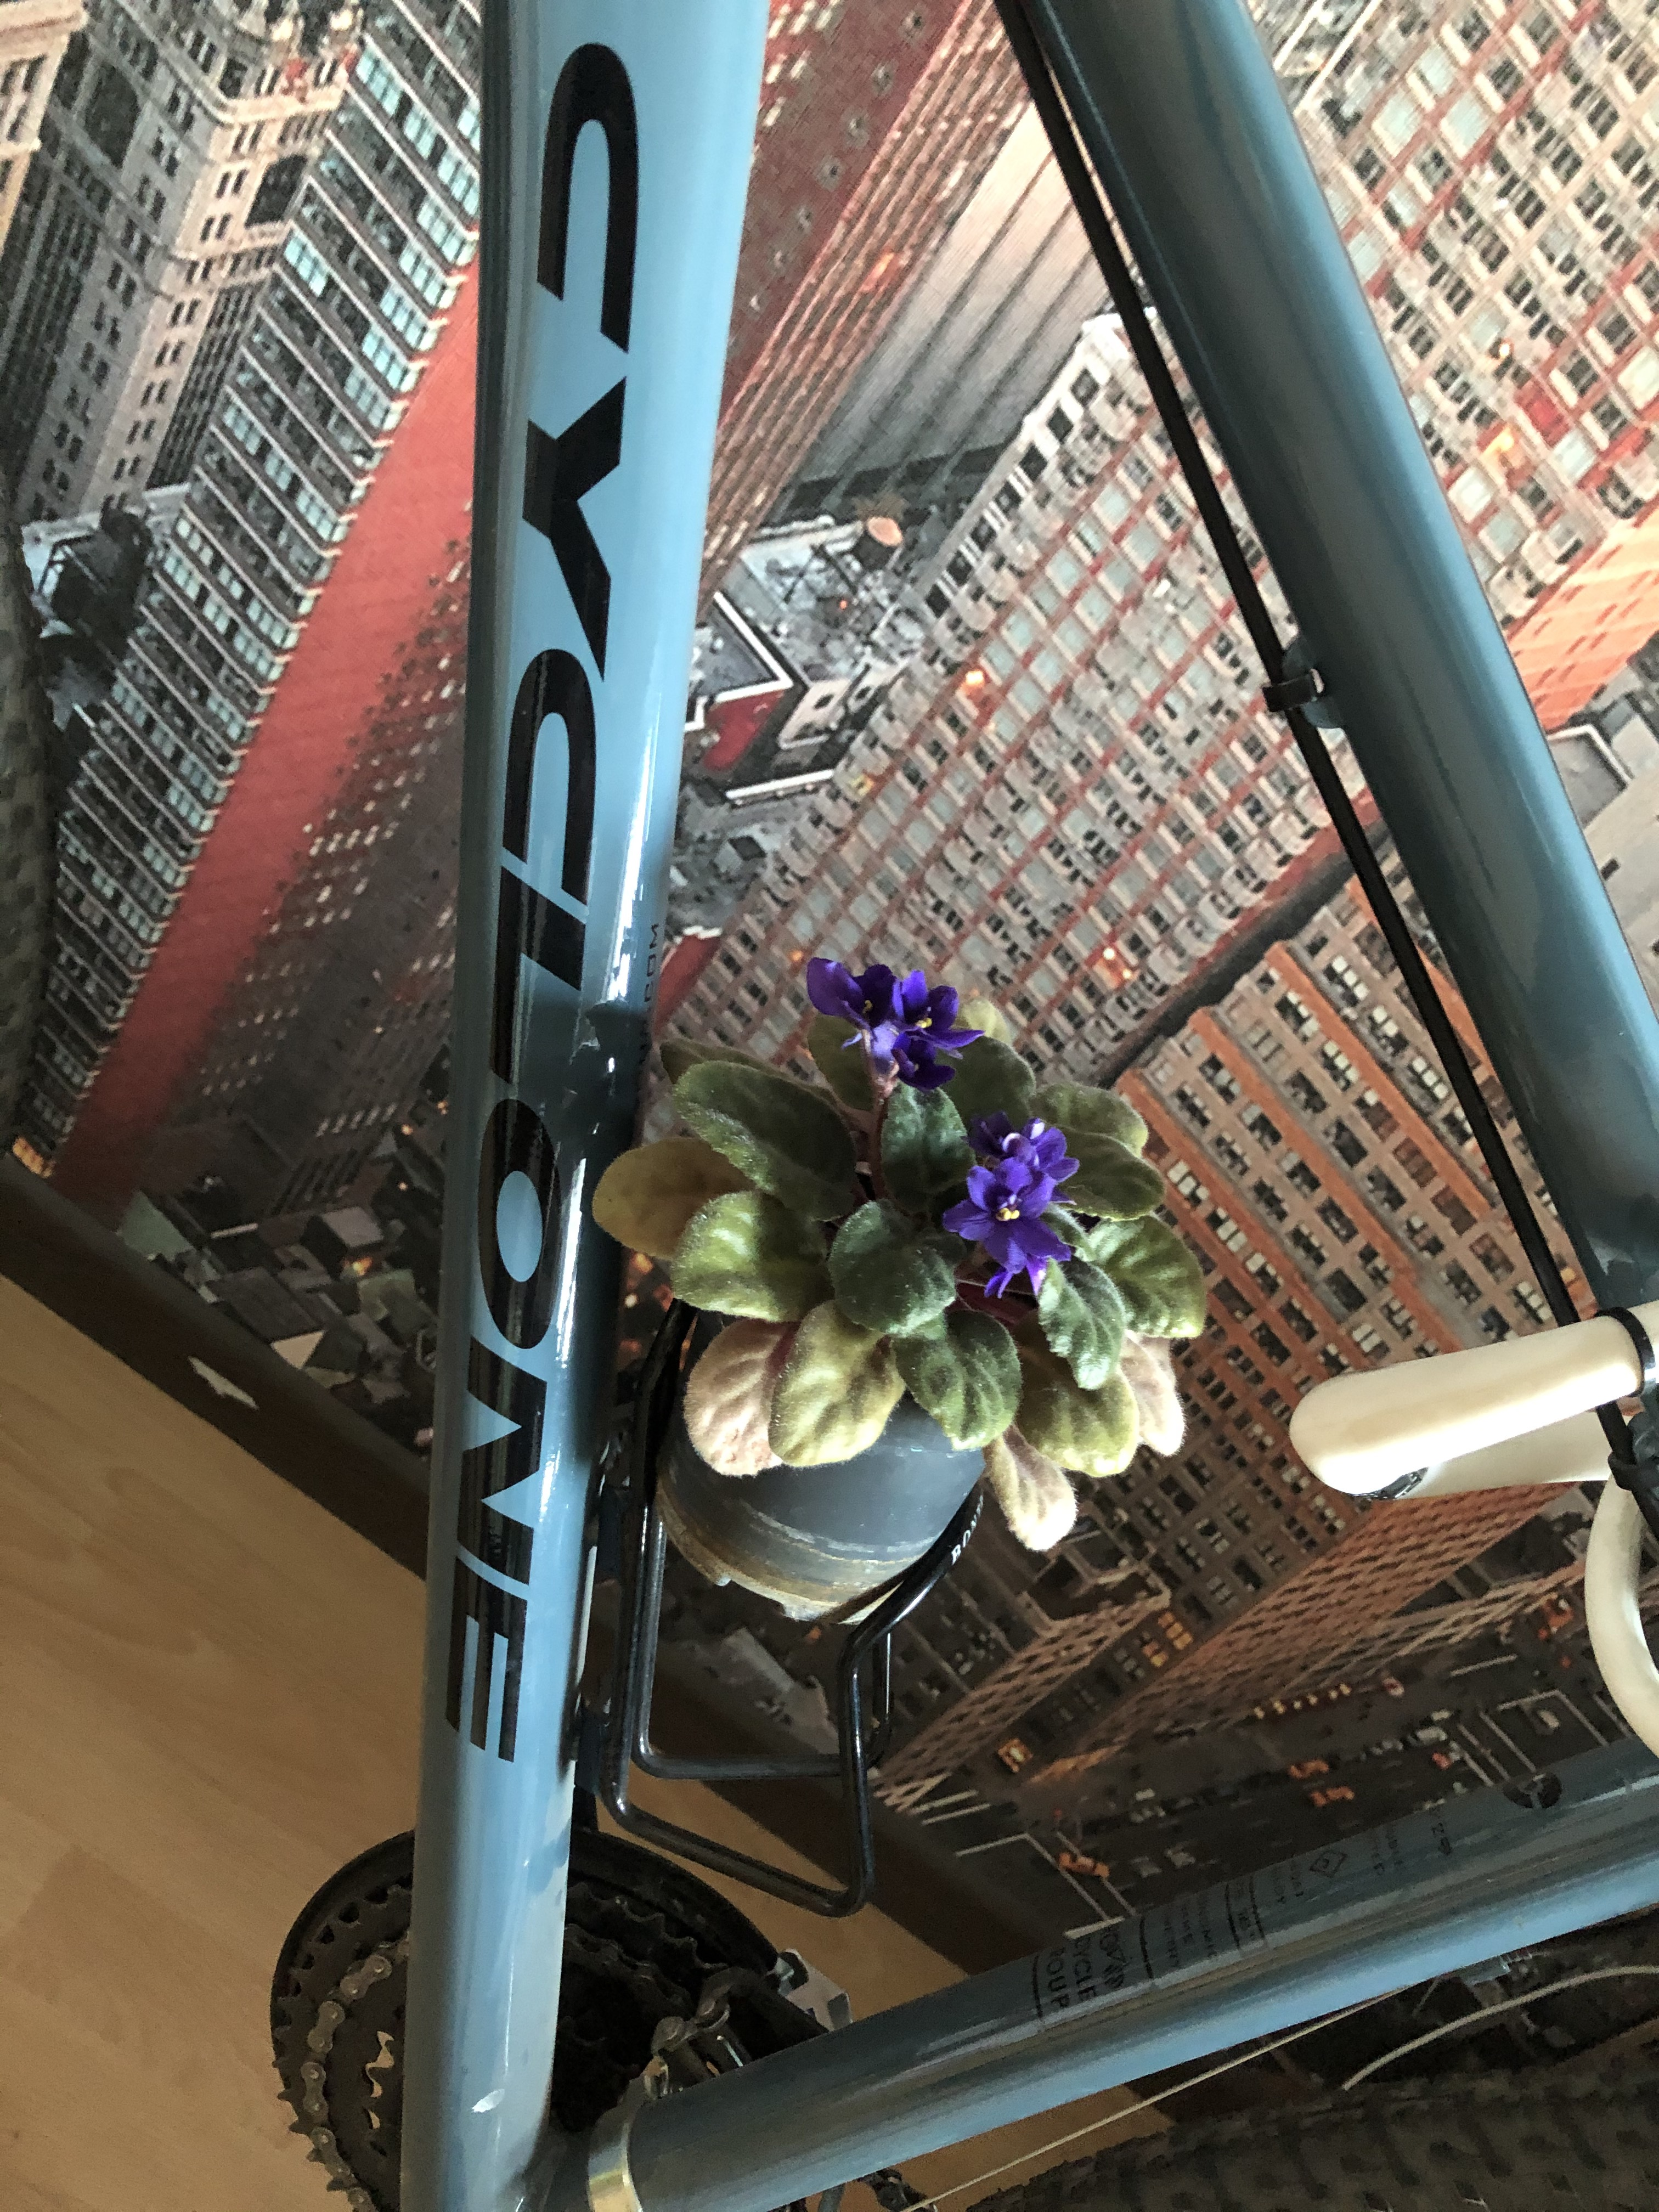ignore: (606, 911, 1195, 1573)
